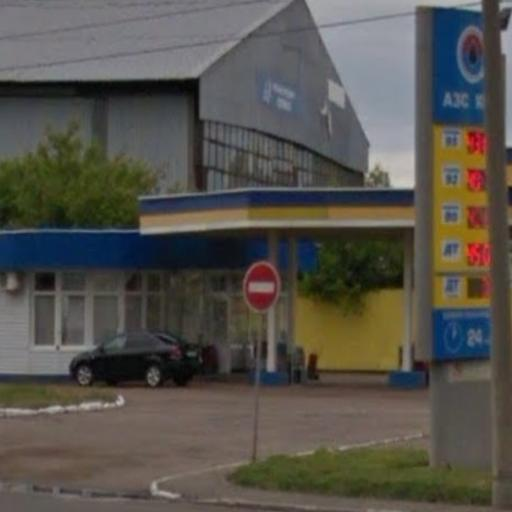traffic_sign: (241, 257, 285, 319)
